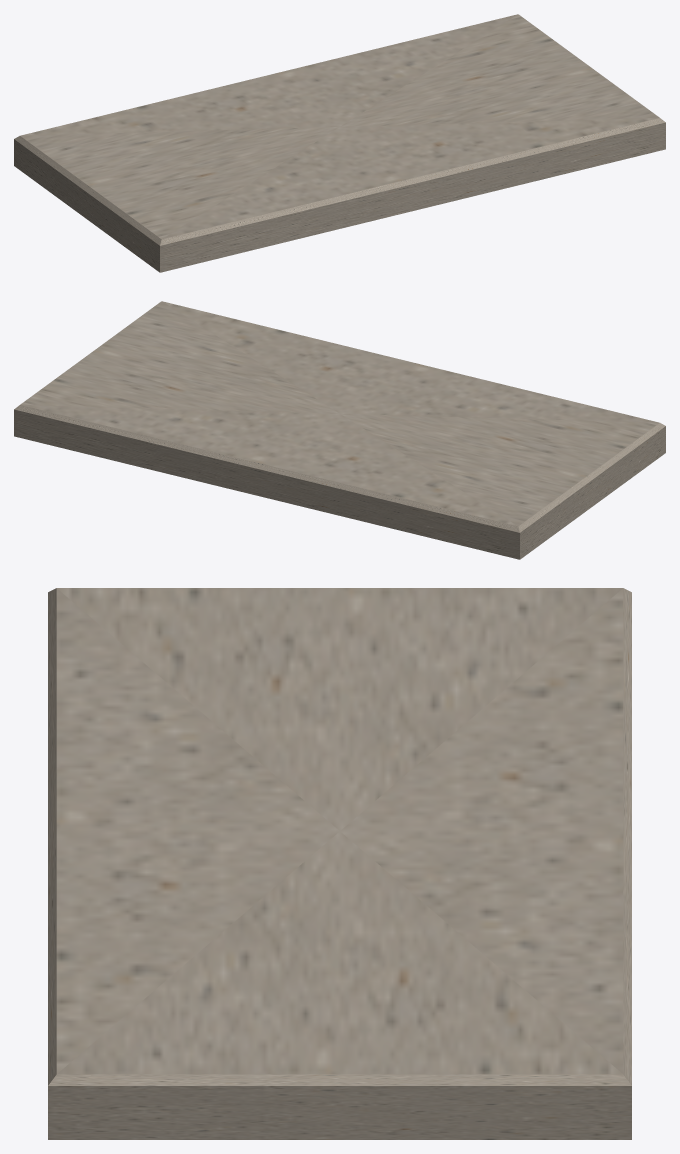
Rendered from showcase_sidewalk_transition.glb.
The picture shows the model from 3 angles, top to bottom: view 1: azimuth 30°, elevation 25°; view 2: azimuth 150°, elevation 25°; view 3: azimuth 270°, elevation 25°; orthographic projection. The views are drawn at different scales.
Visible parts, largest first — view 1: outdoor_showcase_sidewalk_transition; view 2: outdoor_showcase_sidewalk_transition; view 3: outdoor_showcase_sidewalk_transition.
Boxes of the visible parts, x1,y1,x2,y2 form: outdoor_showcase_sidewalk_transition: (14,14,665,272); outdoor_showcase_sidewalk_transition: (14,301,665,559); outdoor_showcase_sidewalk_transition: (48,588,631,1139).
Size of the model in its own units: 2.4 by 0.14 by 1.2.
1 material, 1 textured.
